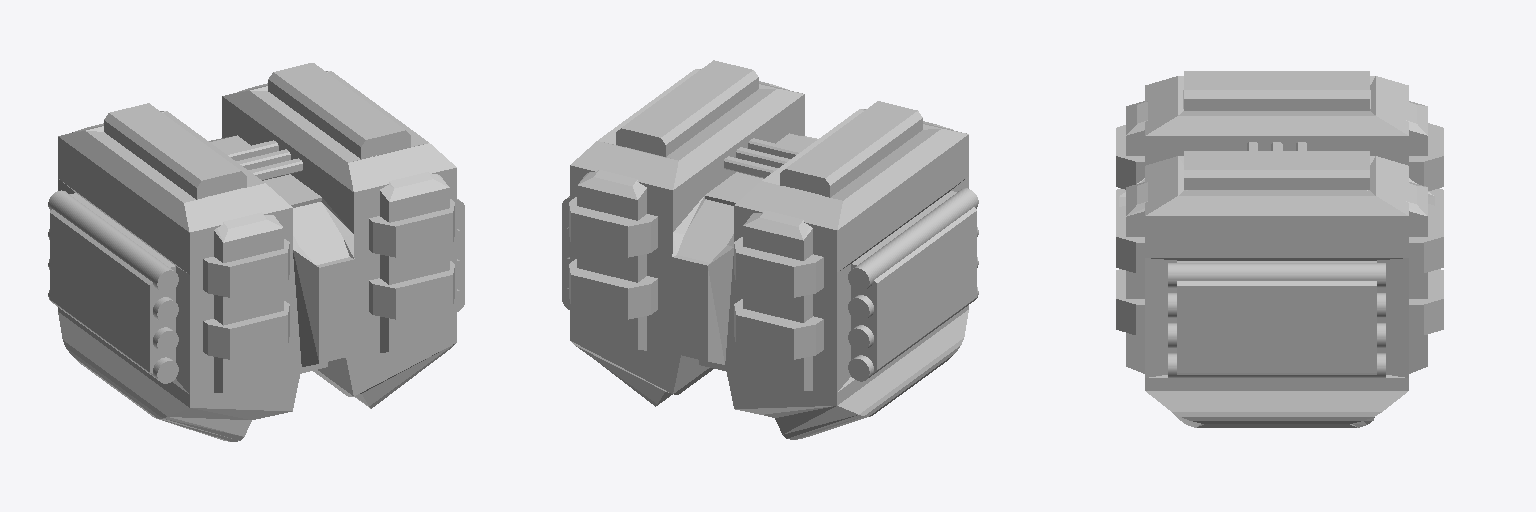
File: Cargo Model 1.obj
The picture shows the model from 3 angles: view 1: azimuth 30°, elevation 25°; view 2: azimuth 150°, elevation 25°; view 3: azimuth 270°, elevation 25°; orthographic projection.
Parts seen in each view (by area): view 1: Cargo_Main_Cube.004, Cargo_Detail1_Cube.012, Cargo_Detail2_Cube.011, Cargo_Detail3_Cylinder, Pipe_Top1_Cube.010, Pipe_Top3_Cube.007, Pipe_Top2_Cube.006; view 2: Cargo_Main_Cube.004, Cargo_Detail2_Cube.011, Cargo_Detail1_Cube.012, Cargo_Detail3_Cylinder, Pipe_Top3_Cube.007, Pipe_Top2_Cube.006, Pipe_Top1_Cube.010; view 3: Cargo_Main_Cube.004, Cargo_Detail2_Cube.011, Cargo_Detail1_Cube.012, Cargo_Detail3_Cylinder.
Boxes of the visible parts, x1=… form: Cargo_Main_Cube.004: x1=50, y1=63, x2=464, y2=441; Cargo_Detail1_Cube.012: x1=72, y1=83, x2=449, y2=392; Cargo_Detail2_Cube.011: x1=203, y1=199, x2=454, y2=359; Cargo_Detail3_Cylinder: x1=48, y1=190, x2=464, y2=383; Pipe_Top1_Cube.010: x1=248, y1=158, x2=302, y2=180; Pipe_Top3_Cube.007: x1=224, y1=140, x2=278, y2=160; Pipe_Top2_Cube.006: x1=236, y1=149, x2=290, y2=169; Cargo_Main_Cube.004: x1=562, y1=60, x2=976, y2=439; Cargo_Detail2_Cube.011: x1=569, y1=197, x2=823, y2=359; Cargo_Detail1_Cube.012: x1=577, y1=81, x2=952, y2=390; Cargo_Detail3_Cylinder: x1=562, y1=188, x2=978, y2=381; Pipe_Top3_Cube.007: x1=724, y1=156, x2=777, y2=178; Pipe_Top2_Cube.006: x1=736, y1=147, x2=790, y2=167; Pipe_Top1_Cube.010: x1=748, y1=138, x2=802, y2=158; Cargo_Main_Cube.004: x1=1119, y1=71, x2=1434, y2=427; Cargo_Detail2_Cube.011: x1=1116, y1=123, x2=1443, y2=335; Cargo_Detail1_Cube.012: x1=1126, y1=90, x2=1427, y2=373; Cargo_Detail3_Cylinder: x1=1168, y1=263, x2=1385, y2=377.
Bounding box in the file's own units: 4.43 × 3.65 × 4.